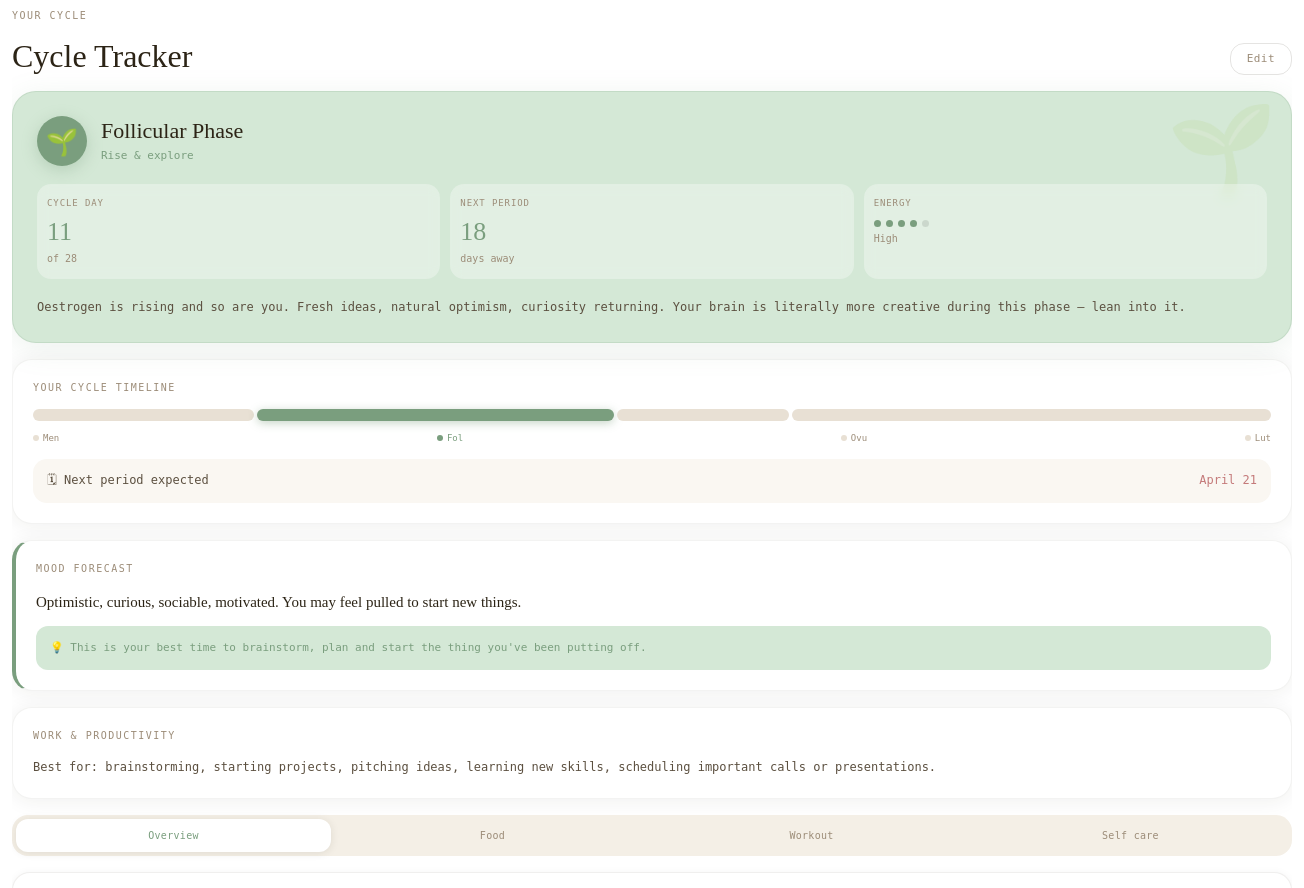
Test case: CycleScreen – Active tracker › switches tabs on click
Click the button "Food" at (492, 835), box top-left (335, 818), bottom-right (650, 852)
(page scrolled)
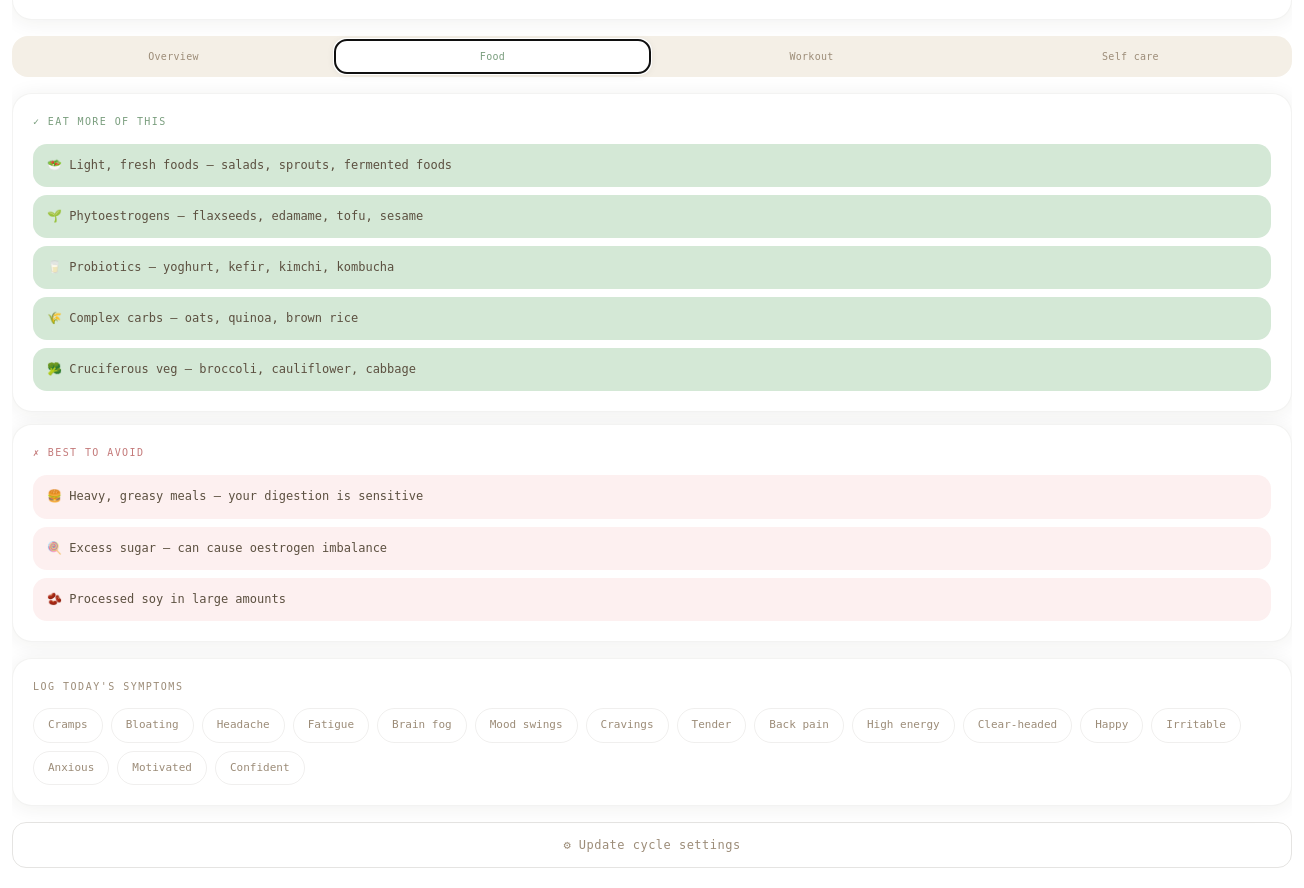
Expected: the text "✓ Eat more of this" is shown, top-left (33, 116), bottom-right (167, 126)
Expected: the text "✗ Best to avoid" is shown, top-left (33, 448), bottom-right (144, 458)
